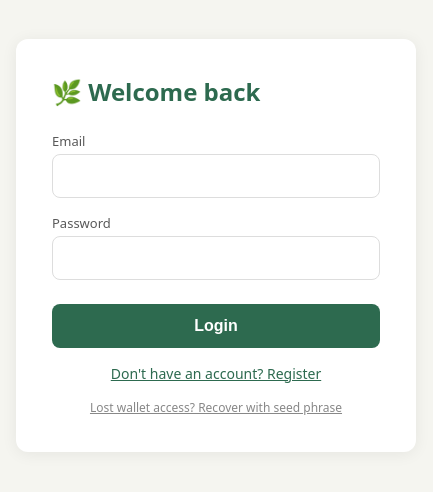
Test case: Auth login failed behaviour (#784) › clears the password field but retains the email after a failed login
Step 1. Type "user@example.com" into the field labelled "Email" → [216, 176], box top-left (52, 154), bottom-right (380, 198)
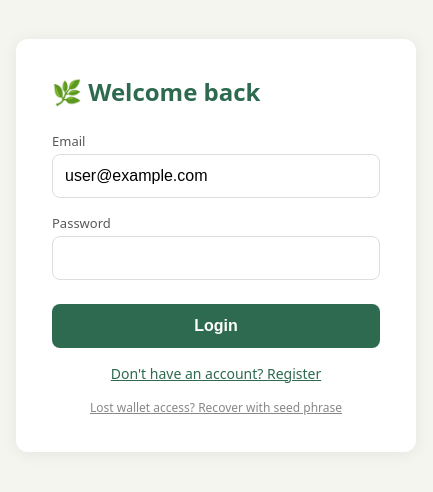
Step 2. Type "wrongpass" into the password field labelled "Password" → [216, 258], box top-left (52, 236), bottom-right (380, 280)
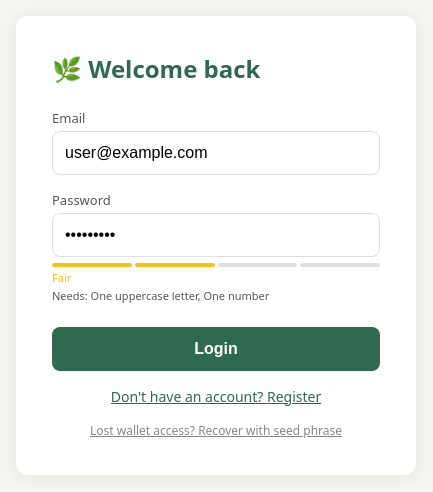
Step 3. Click the button "Login" → [216, 348], box top-left (52, 326), bottom-right (380, 370)
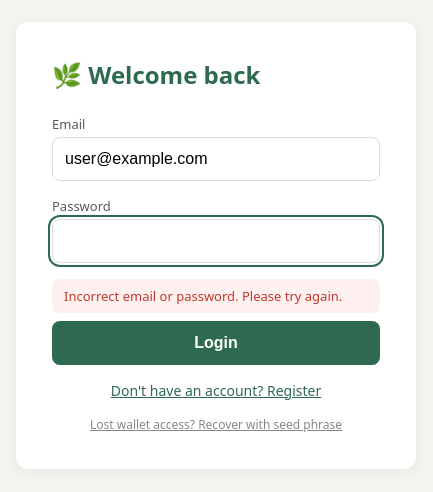
Expected: the text "Incorrect email or password. Please try again." is shown, top-left (52, 278), bottom-right (380, 312)
Expected: the password field labelled "Password" is empty, top-left (52, 218), bottom-right (380, 262)
